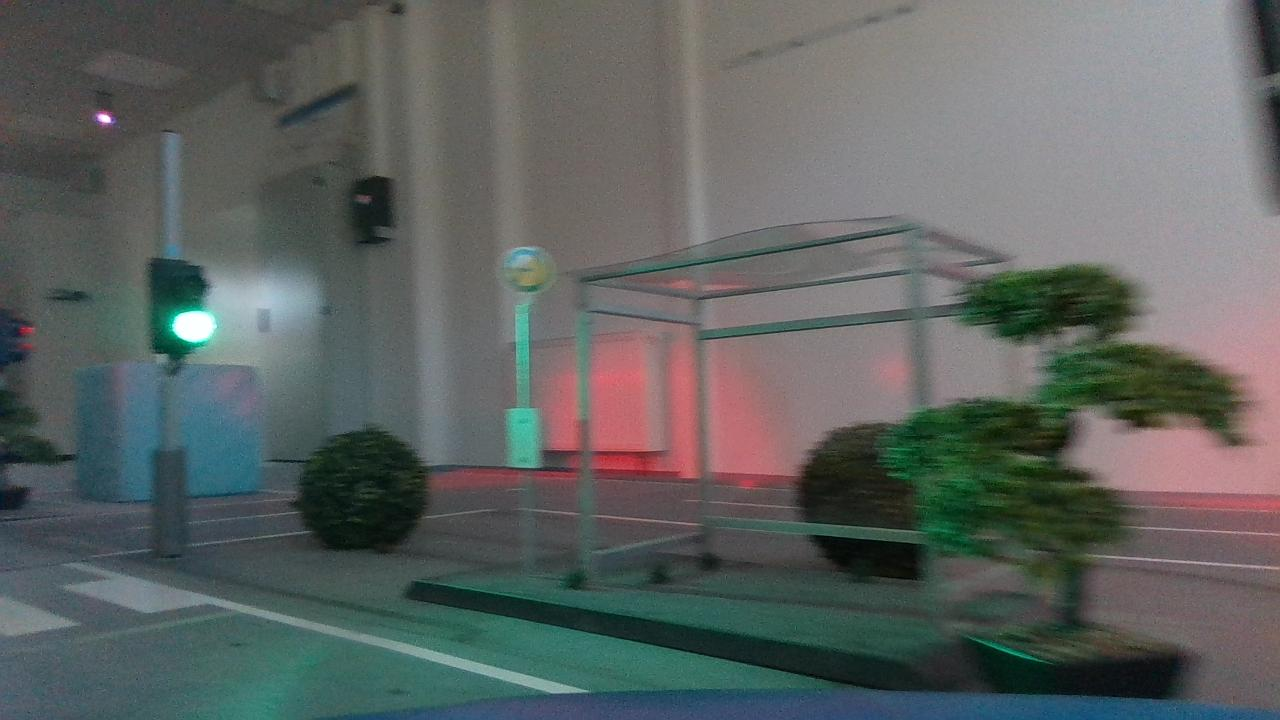traffic_light_green: (130, 249, 231, 370)
